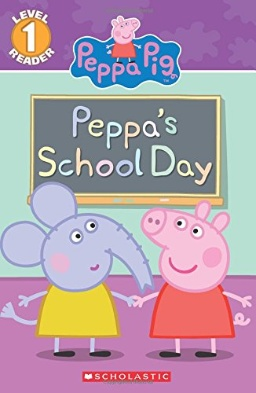Peppa: (131, 201, 254, 363)
